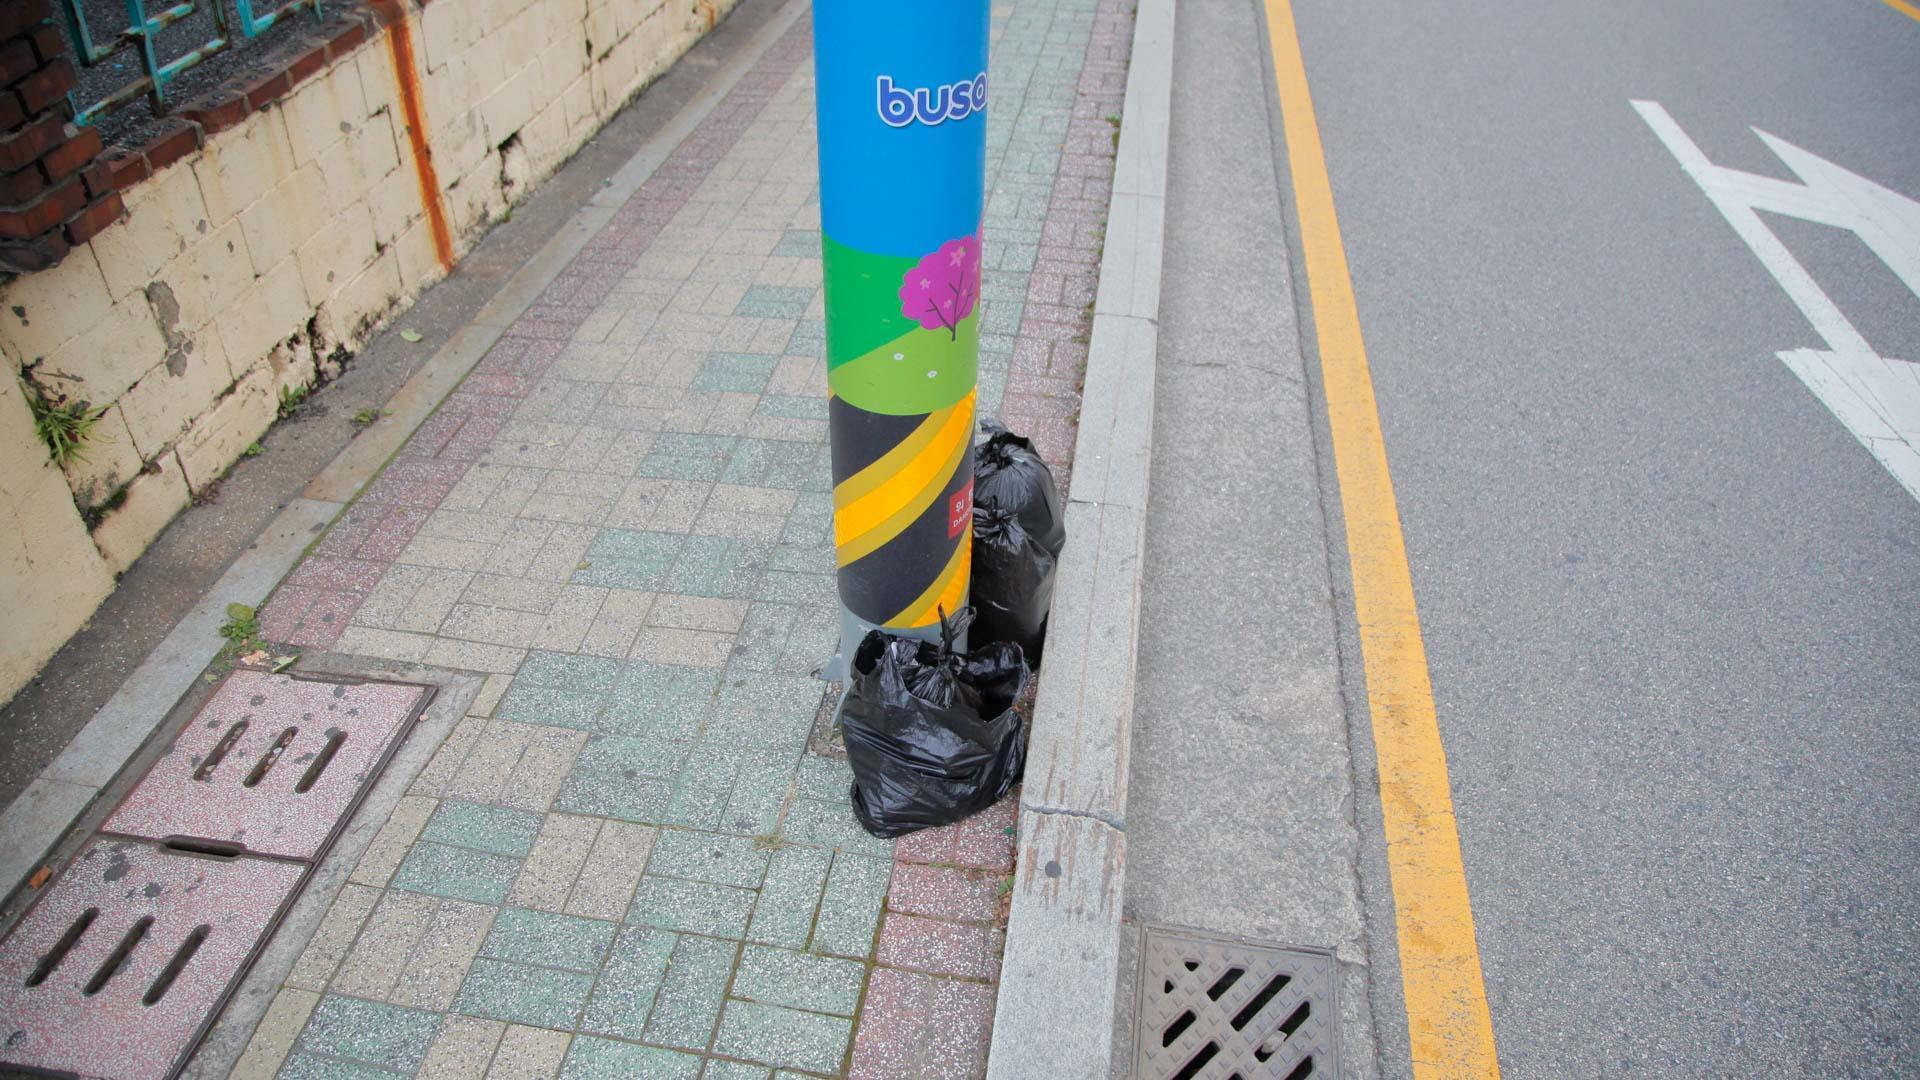black_bag: (820, 597, 1052, 840), (945, 491, 1067, 665), (949, 409, 1087, 562)
